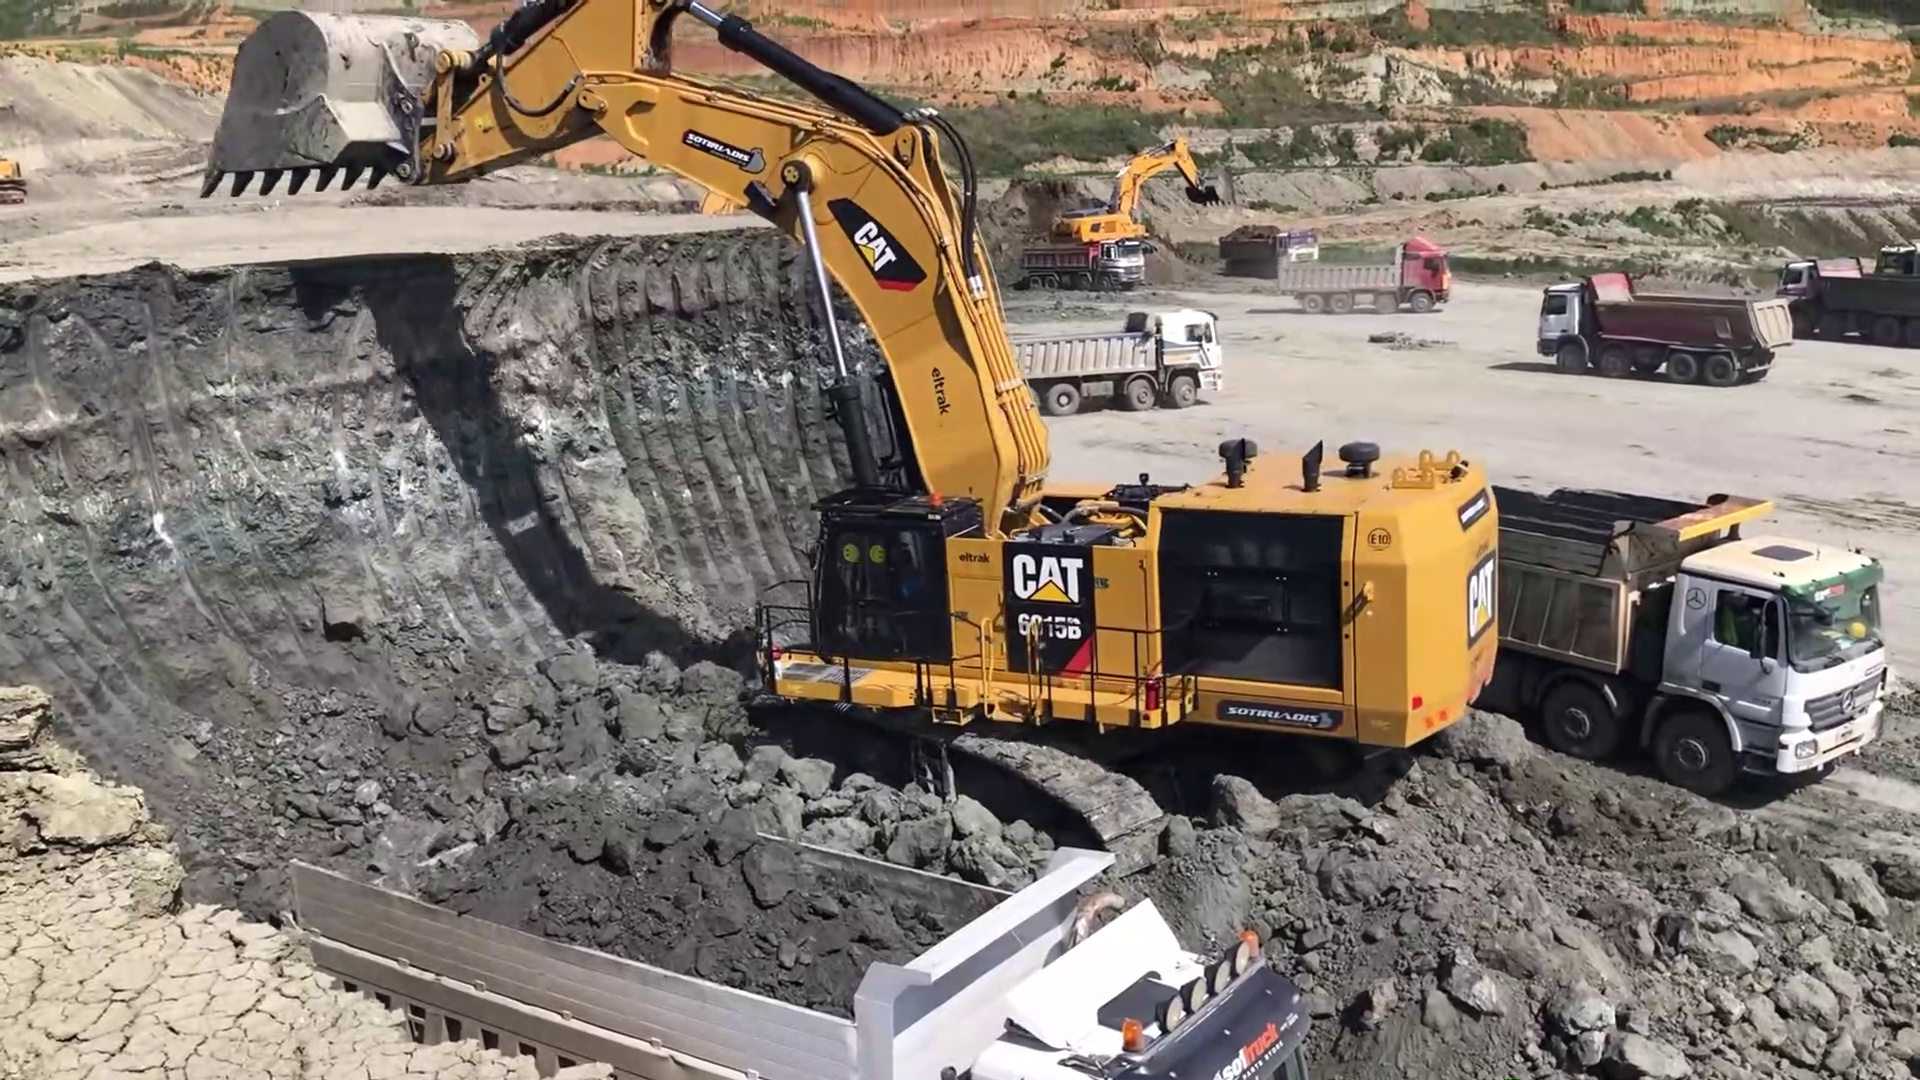excavator: (196, 9, 1503, 874), (1025, 138, 1236, 268)
truck: (287, 764, 1290, 1080), (1366, 455, 1898, 787), (1538, 272, 1787, 388), (993, 306, 1224, 411), (1776, 243, 1920, 365), (1288, 243, 1451, 316), (1019, 237, 1145, 280), (1230, 222, 1316, 273)
